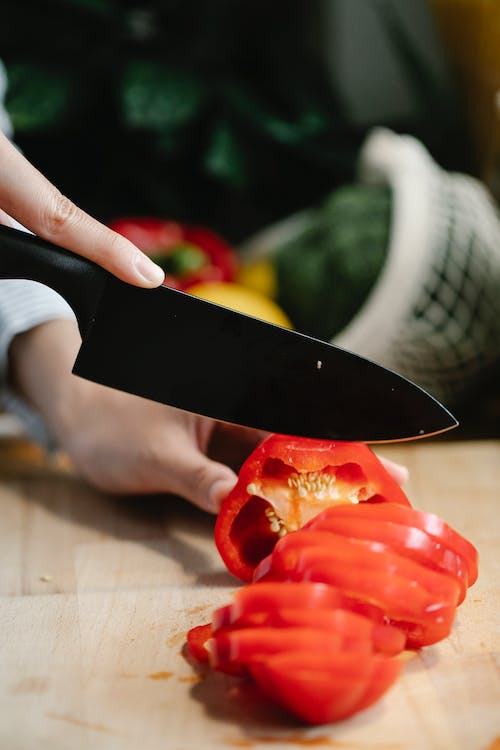knife: (0, 219, 461, 444)
